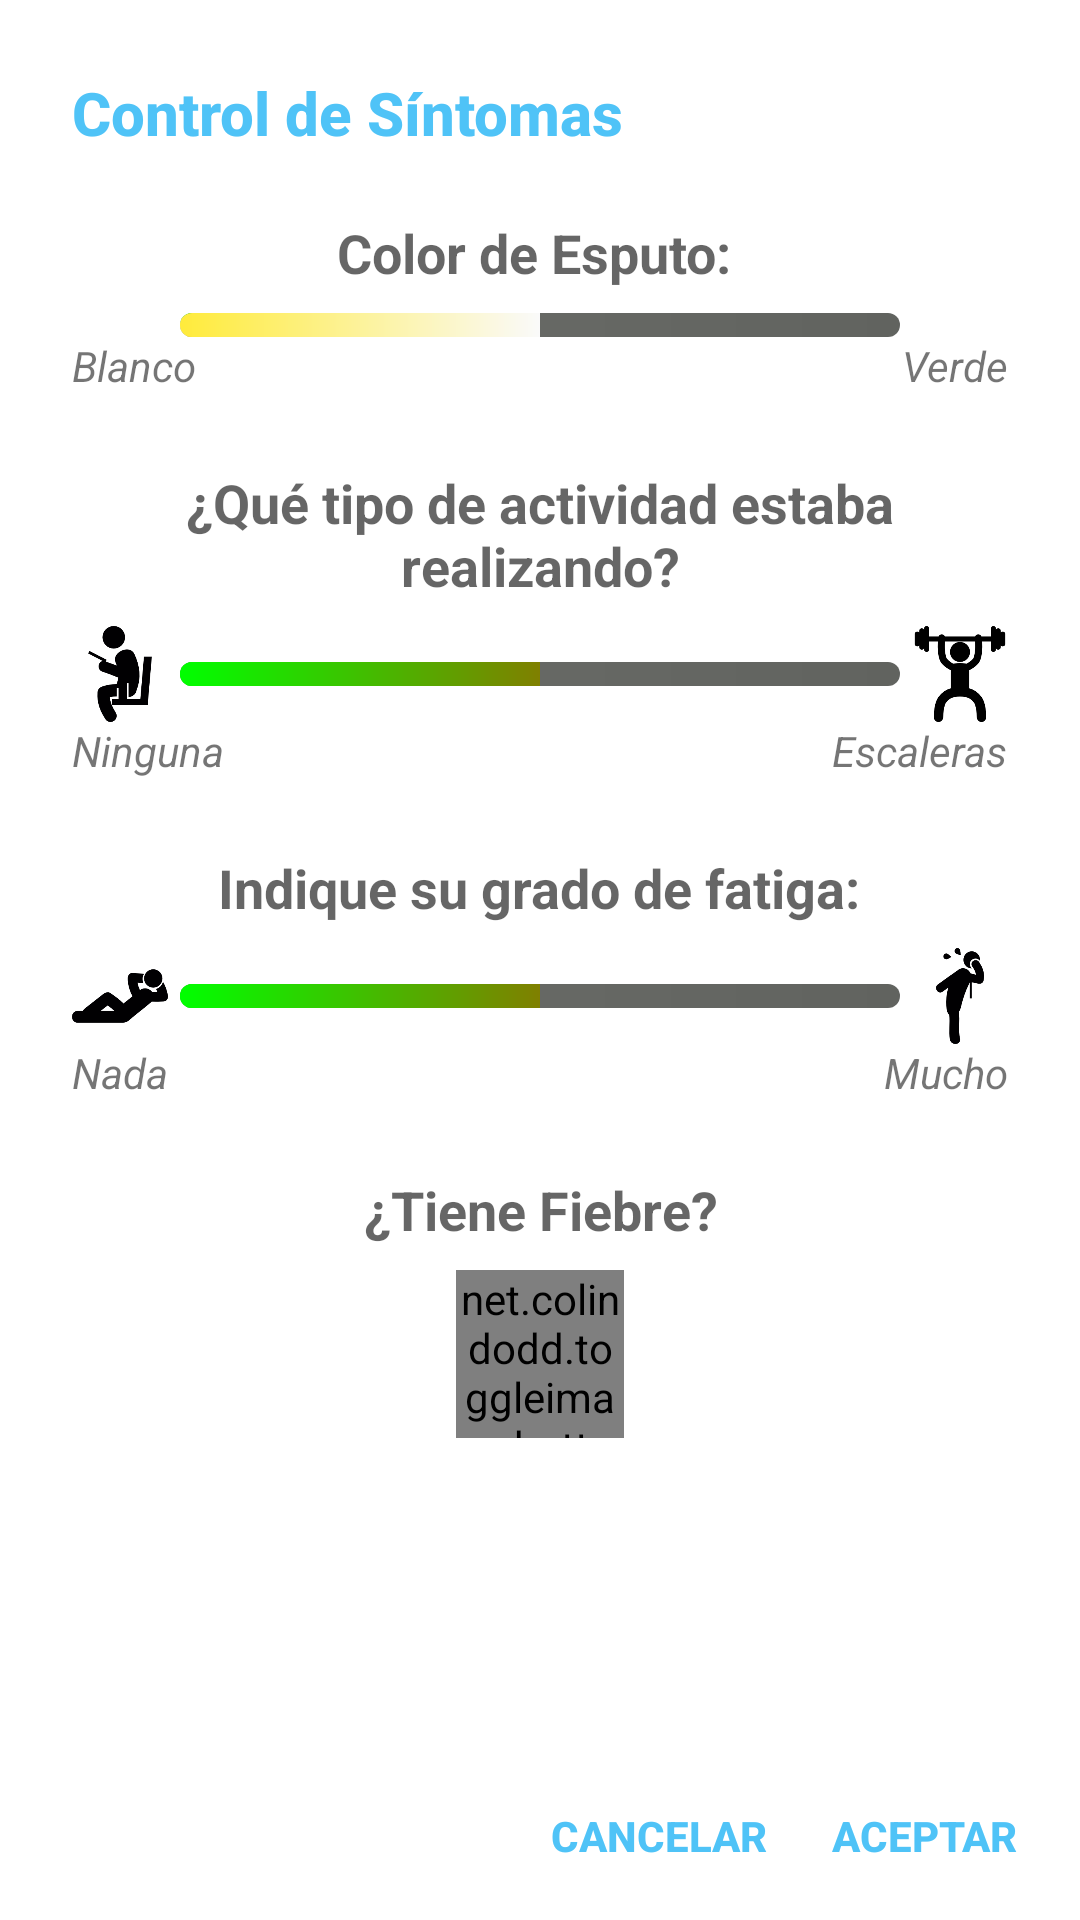

Named icons in this screenshot (1080 x 1920) and their centers, (x,y):
lifting: (960,674)
resting: (120,996)
seated: (120,674)
tired: (960,996)
